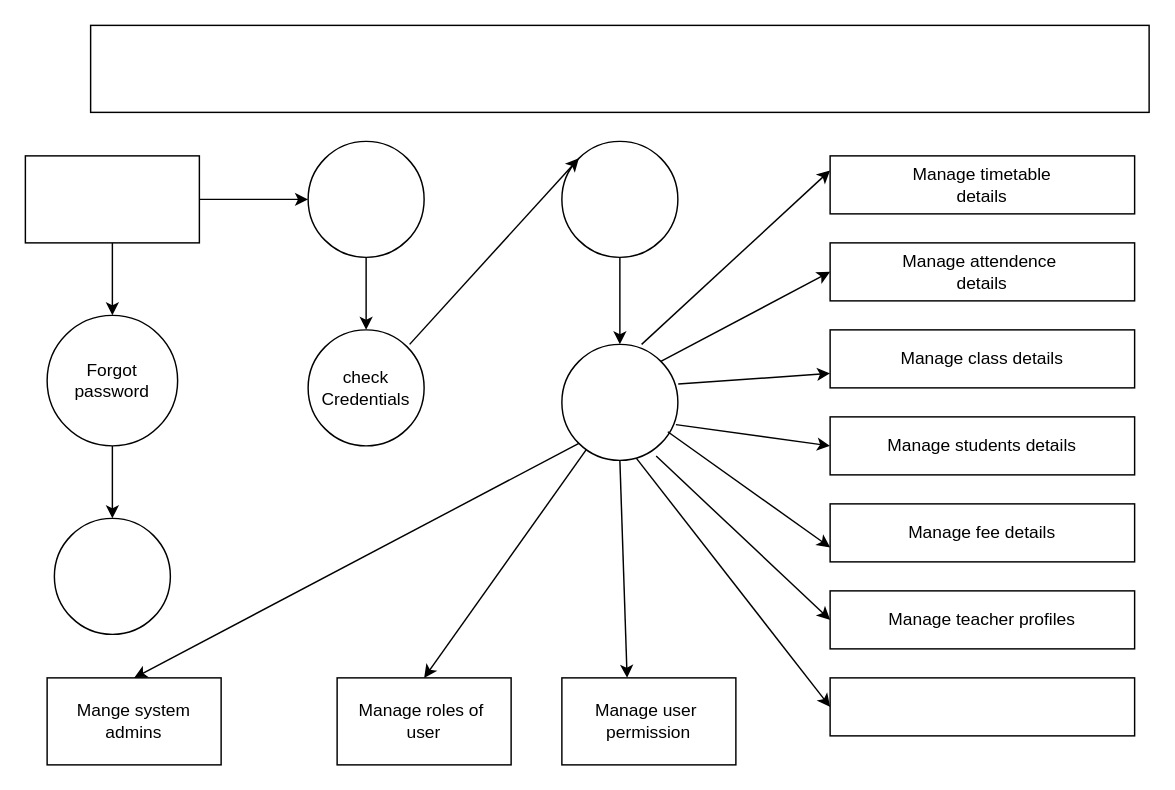
This 1175x790 diagram has some shape labels left out. Here are the shapes that lost their labels. From the top down, the centre of each, then its label:
pixel 619 68: Student Information System
pixel 111 198: Admin
pixel 365 198: Login to system
pixel 619 198: Check rules of access
pixel 619 401: Manage Modules
pixel 111 575: Send email to user
